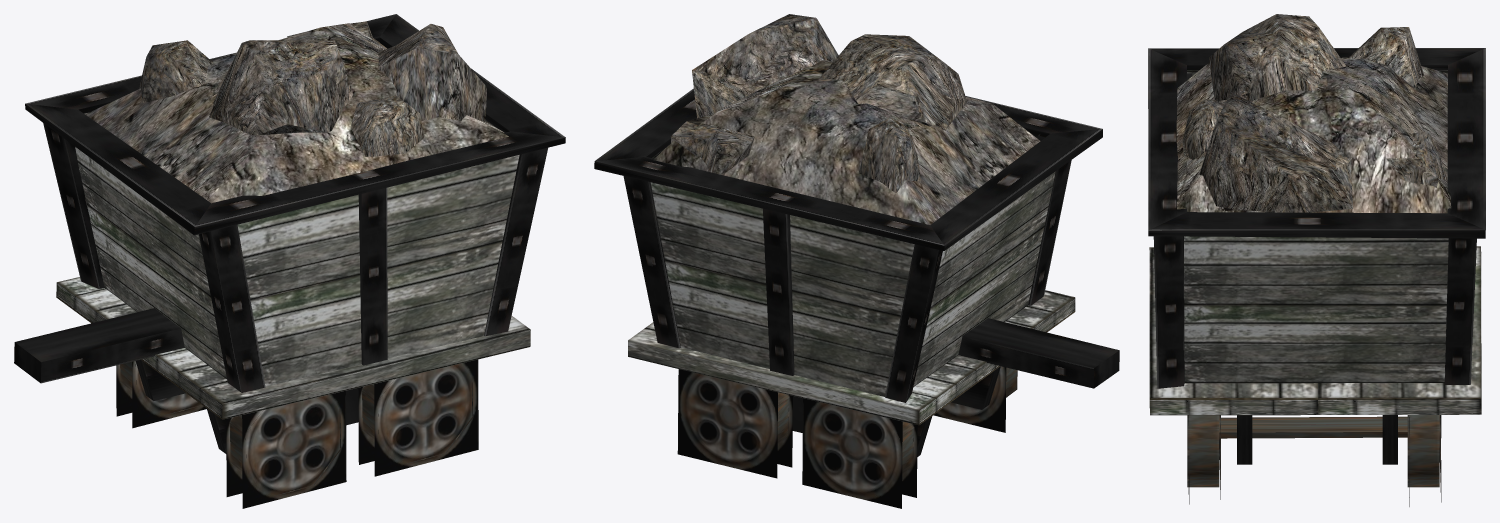
The model's file is pir_m_prp_mng_cart.fbx.
The picture shows the model from 3 angles, left to right: view 1: azimuth 30°, elevation 25°; view 2: azimuth 150°, elevation 25°; view 3: azimuth 270°, elevation 25°; orthographic projection. The views are drawn at different scales.
Parts seen in each view (by area): view 1: sides1, rock_24, sides3, sides2, rock_15, spokes1, spokes5, wood15, wood4, rock_2, wood14, wood2 (+14 smaller); view 2: sides5, rock_24, sides3, sides2, spokes4, spokes8, rock_15, wood11, rock_2, wood4, wood14, wood18 (+13 smaller); view 3: sides4, rock_24, rock_2, sides2, rock_15, wood13, wood11, wood15, wood12, wood16, pCube4, wheel5 (+7 smaller).
Part boxes in pixels (left/top/right/bottom): sides1: left=237, top=155, right=519, bottom=386; rock_24: left=85, top=23, right=508, bottom=203; sides3: left=75, top=147, right=226, bottom=378; sides2: left=56, top=277, right=530, bottom=419; rock_15: left=209, top=40, right=353, bottom=135; spokes1: left=242, top=390, right=346, bottom=508; spokes5: left=374, top=359, right=478, bottom=476; wood15: left=194, top=131, right=565, bottom=235; wood4: left=14, top=308, right=184, bottom=383; rock_2: left=378, top=24, right=486, bottom=122; wood14: left=25, top=103, right=210, bottom=234; wood2: left=199, top=224, right=265, bottom=392; sides5: left=650, top=182, right=914, bottom=396; rock_24: left=654, top=60, right=1040, bottom=224; sides3: left=913, top=171, right=1055, bottom=386; sides2: left=628, top=290, right=1075, bottom=425; spokes4: left=802, top=398, right=902, bottom=508; spokes8: left=677, top=369, right=777, bottom=478; rock_15: left=820, top=34, right=966, bottom=130; wood11: left=594, top=157, right=944, bottom=250; rock_2: left=692, top=14, right=838, bottom=118; wood4: left=958, top=318, right=1119, bottom=388; wood14: left=930, top=129, right=1102, bottom=250; wood18: left=885, top=244, right=942, bottom=402; sides4: left=1184, top=236, right=1448, bottom=383; rock_24: left=1176, top=57, right=1451, bottom=213; rock_2: left=1199, top=92, right=1352, bottom=212; sides2: left=1149, top=246, right=1481, bottom=415; rock_15: left=1209, top=14, right=1346, bottom=101; wood13: left=1148, top=212, right=1485, bottom=238; wood11: left=1447, top=48, right=1485, bottom=229; wood15: left=1148, top=48, right=1186, bottom=230; wood12: left=1153, top=236, right=1184, bottom=388; wood16: left=1444, top=238, right=1476, bottom=384; pCube4: left=1219, top=416, right=1407, bottom=438; wheel5: left=1407, top=415, right=1439, bottom=487.
Bounding box in the file's own units: 557 × 477 × 357.
3 materials, 3 textured.
